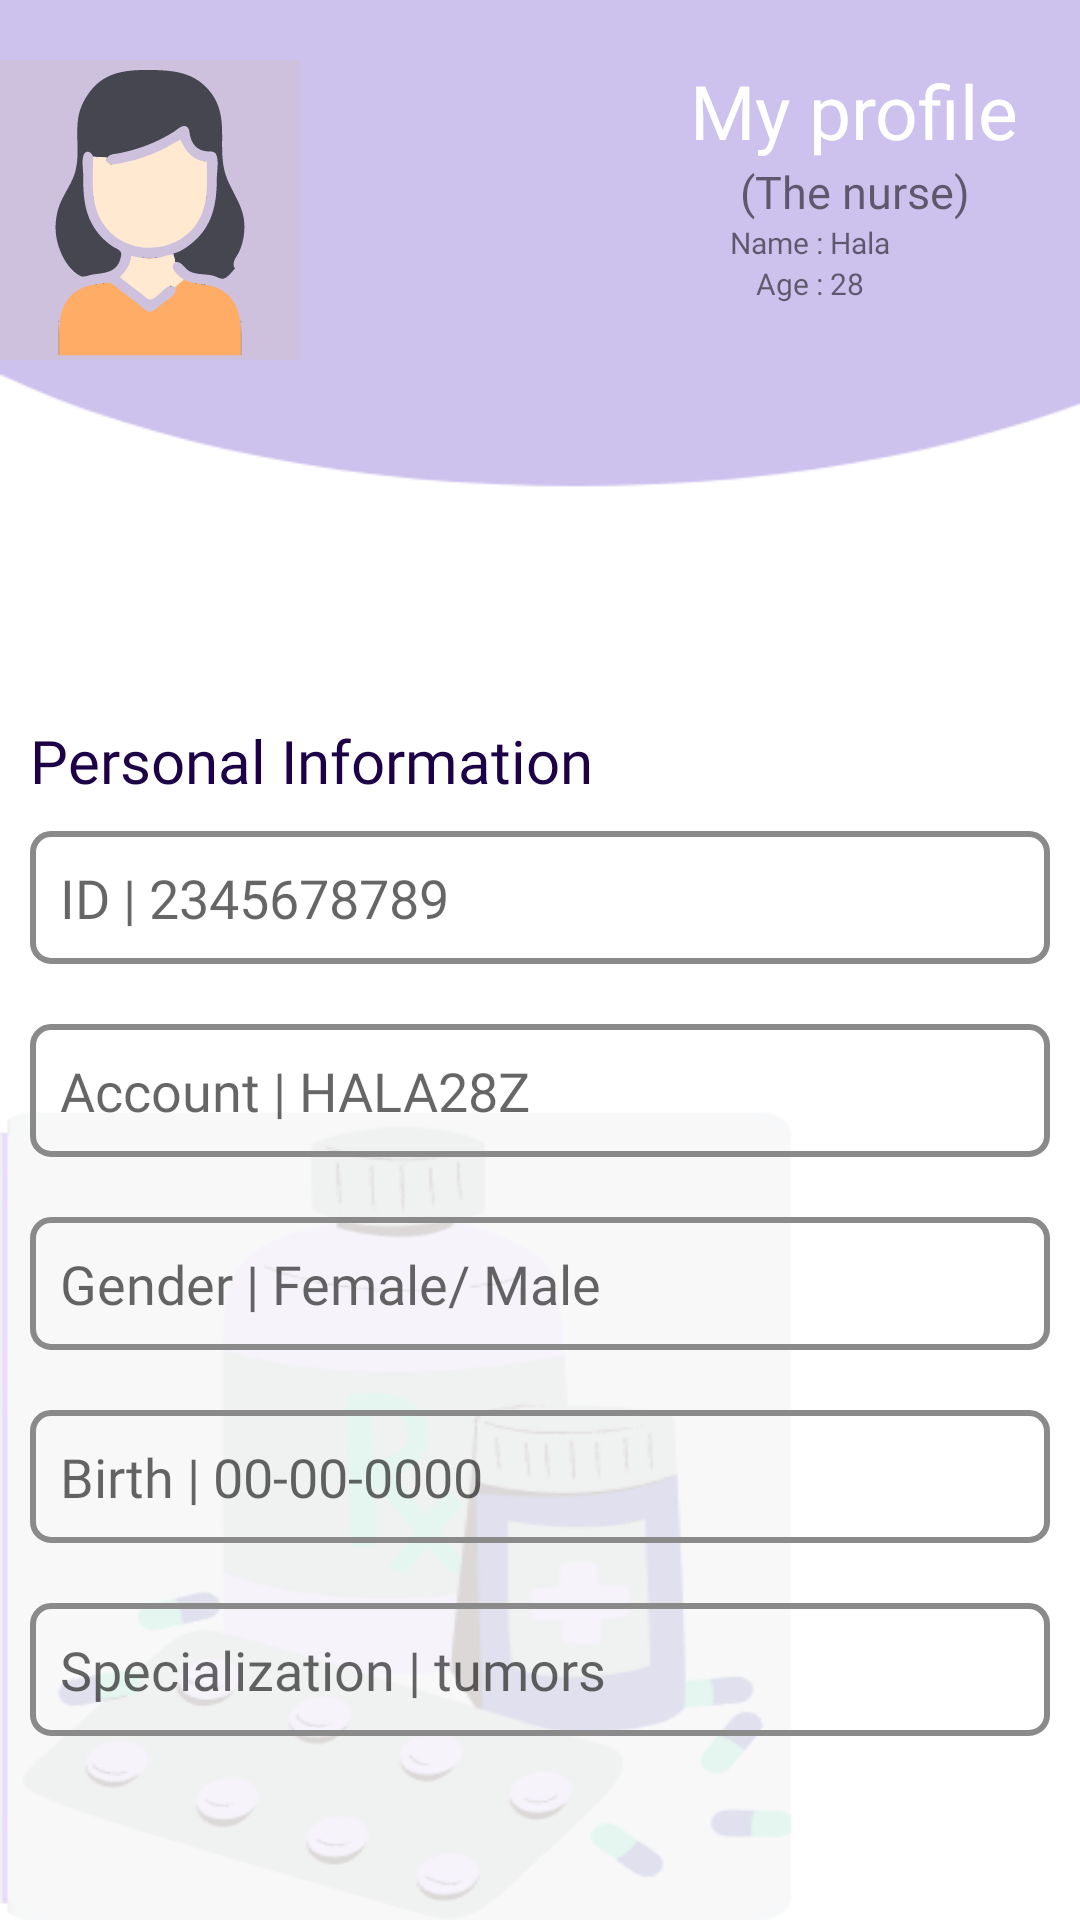

Point at icon controls on the screen. Image size 1080*1920, points as point (x, y).
person: point (150, 213)
